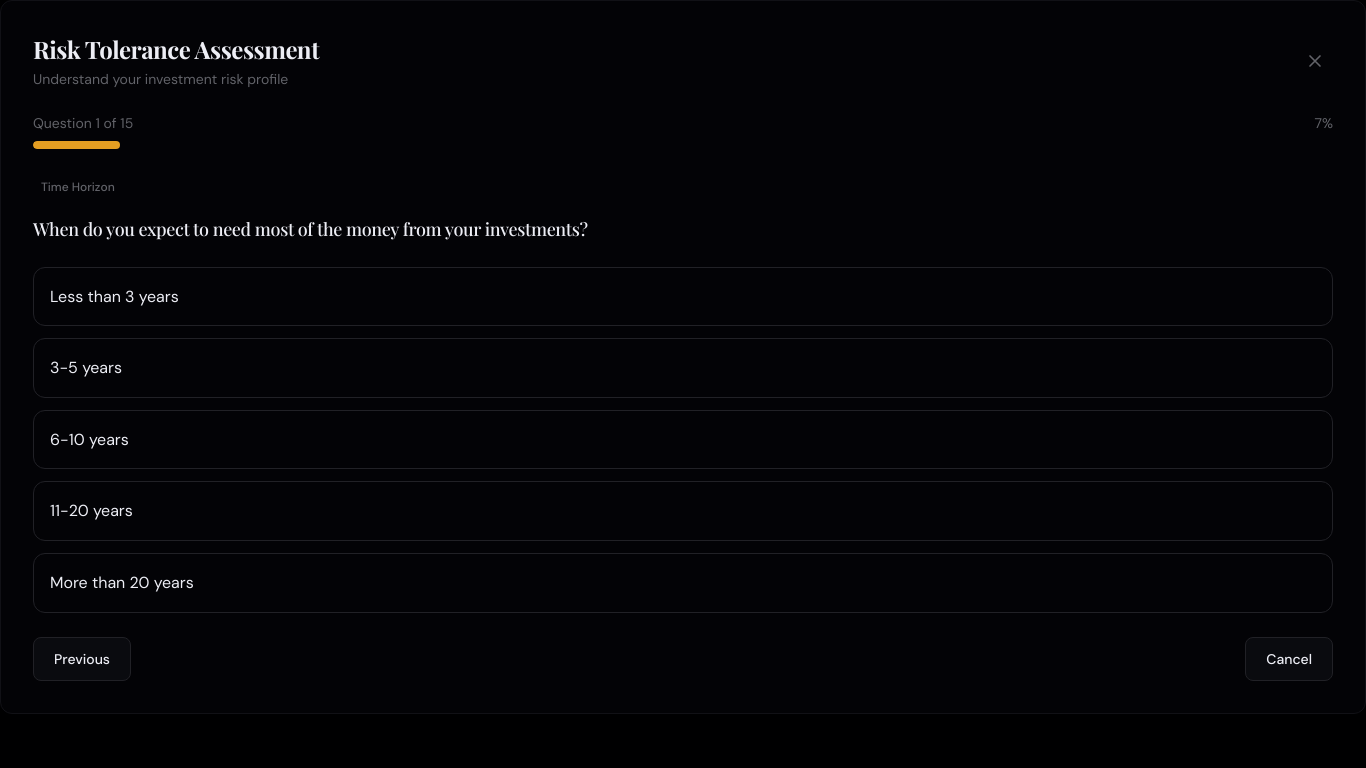
Test: RiskToleranceAssessment › Navigation › advances to next question when answer is selected
This screenshot has width=1366, height=768.
Click the button "3-5 years" at (86, 368), box [33,338,1333,398]
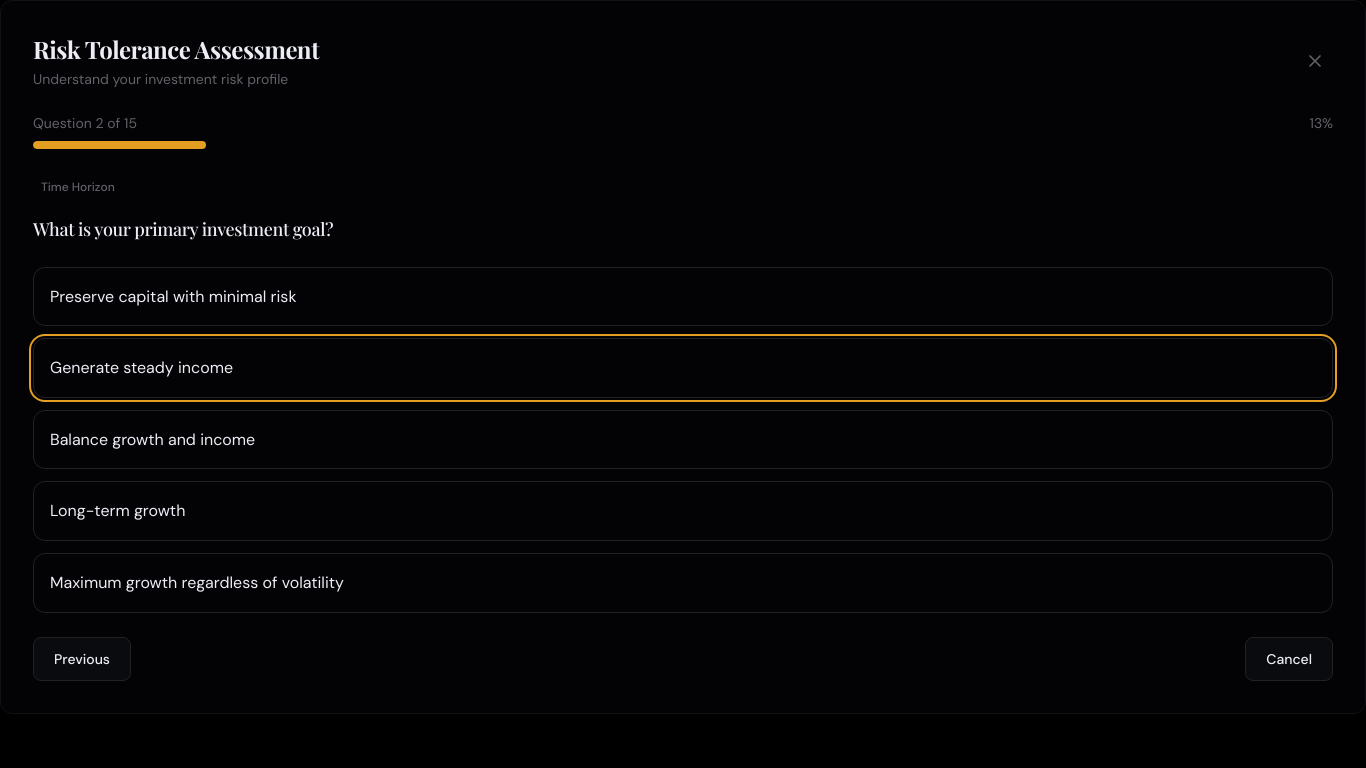
Now the text "Question 2 of 15" is shown, box [33,113,137,133]
